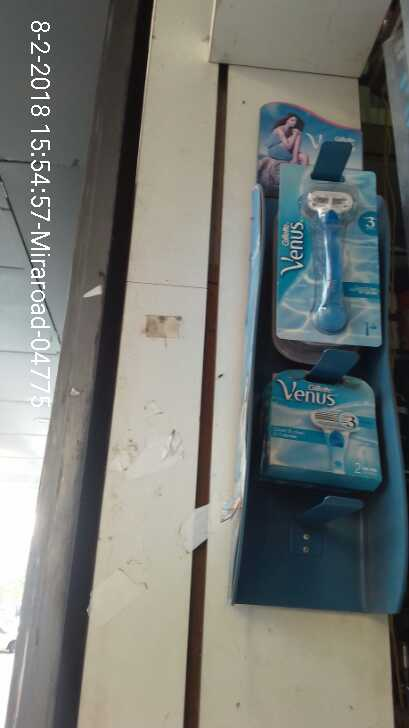venus: (275, 165, 382, 349), (265, 368, 391, 503)
